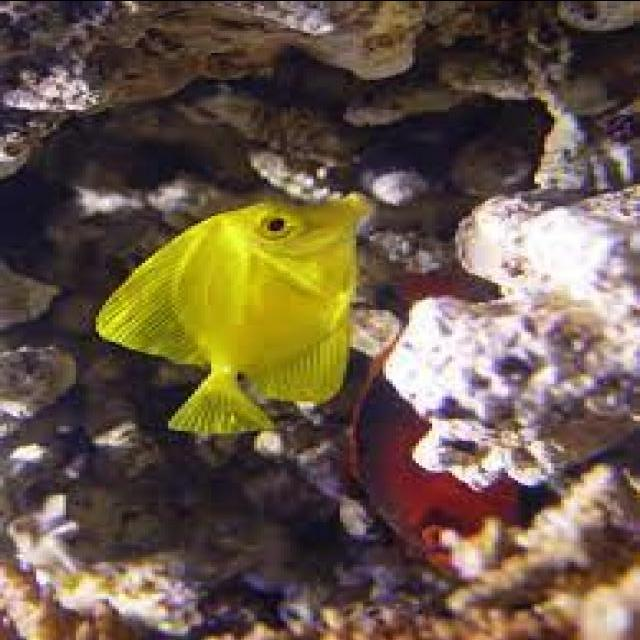YellowTang: (66, 175, 407, 452)
